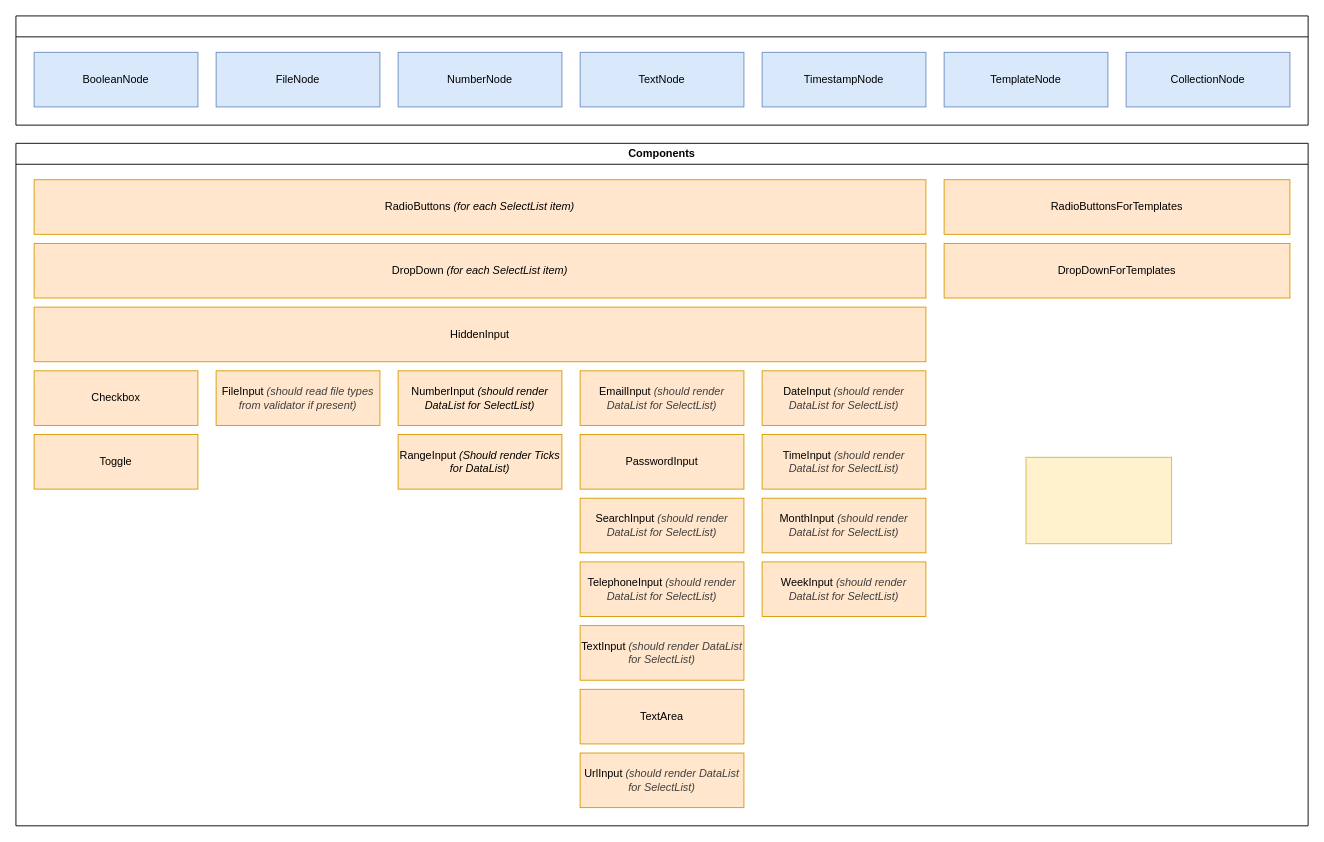
This 1324x842 diagram has some shape labels left out. The box of each missing label's shape, as (x1, y1, x2, y2) in pixels:
.InputGroup(element, before/after): (1025, 456, 1172, 544)
Form Nodes: (15, 15, 1308, 125)
